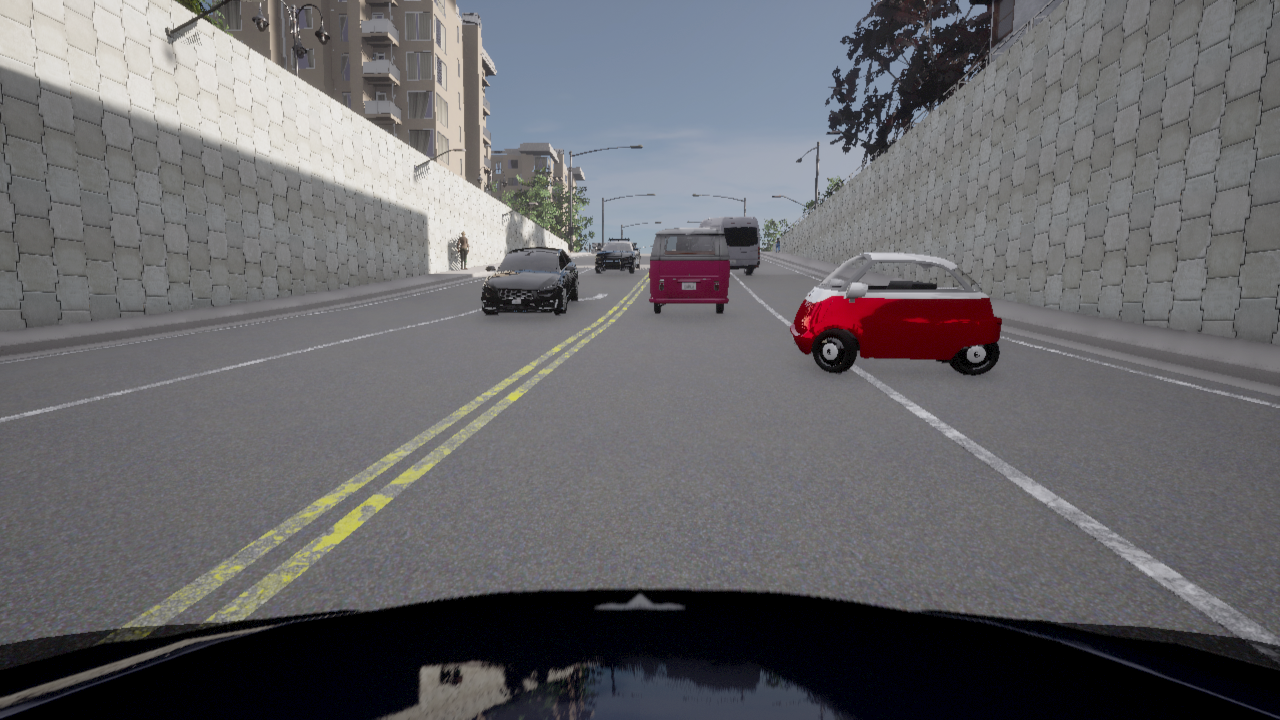cyclist: (0, 588, 1279, 719), (790, 252, 1001, 374), (649, 228, 729, 313), (480, 247, 578, 314), (699, 217, 759, 273), (595, 238, 640, 272)
pedestrian: (457, 231, 468, 269), (776, 238, 779, 251)
